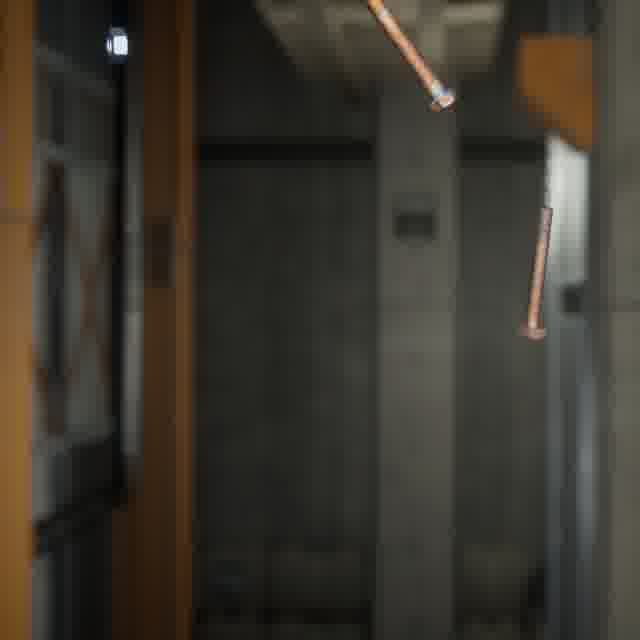bolt: (357, 0, 461, 117), (513, 201, 557, 343)
nut: (100, 23, 132, 67)
